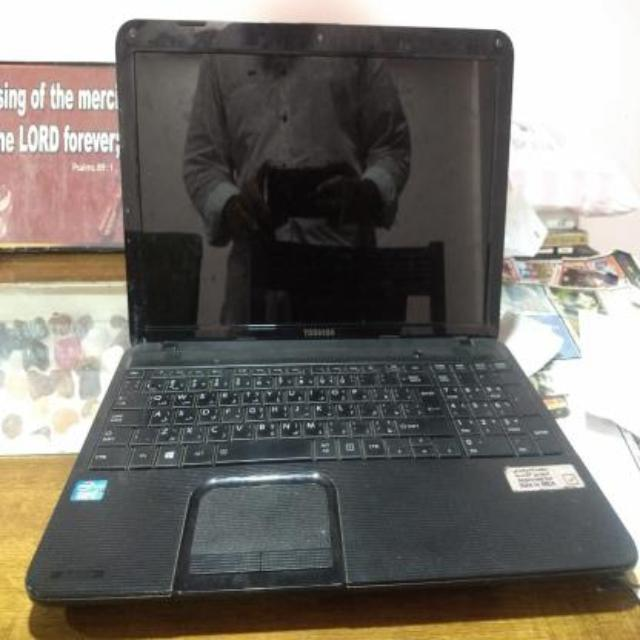Laptop: (23, 14, 629, 620)
